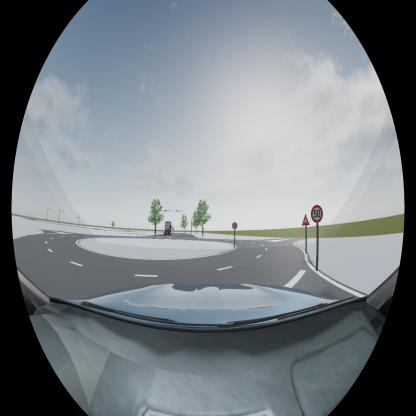Red Light: (164, 210, 167, 212), (176, 210, 178, 212)
Speed Limit 50: (232, 222, 238, 229)
